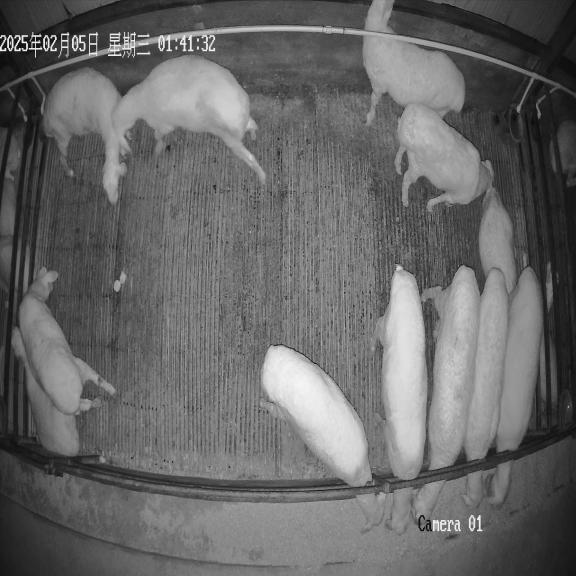eating: (261, 345, 385, 532), (411, 265, 480, 521), (370, 264, 427, 535), (489, 266, 543, 505), (464, 268, 509, 507)
lying: (11, 327, 79, 456), (478, 187, 518, 293)
stand: (113, 55, 266, 183), (19, 267, 115, 415), (362, 0, 465, 125), (41, 67, 126, 203), (395, 103, 494, 212)
